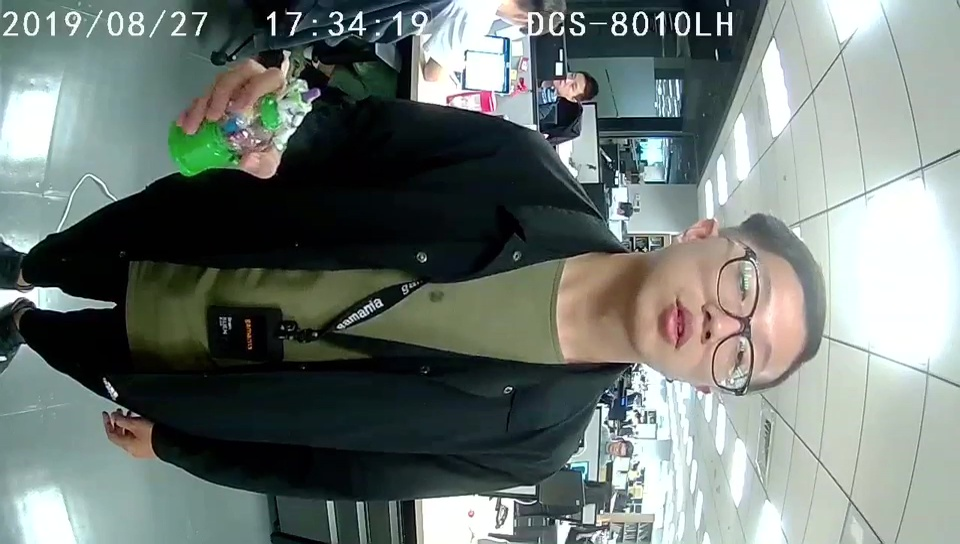buzz: (166, 78, 323, 182)
